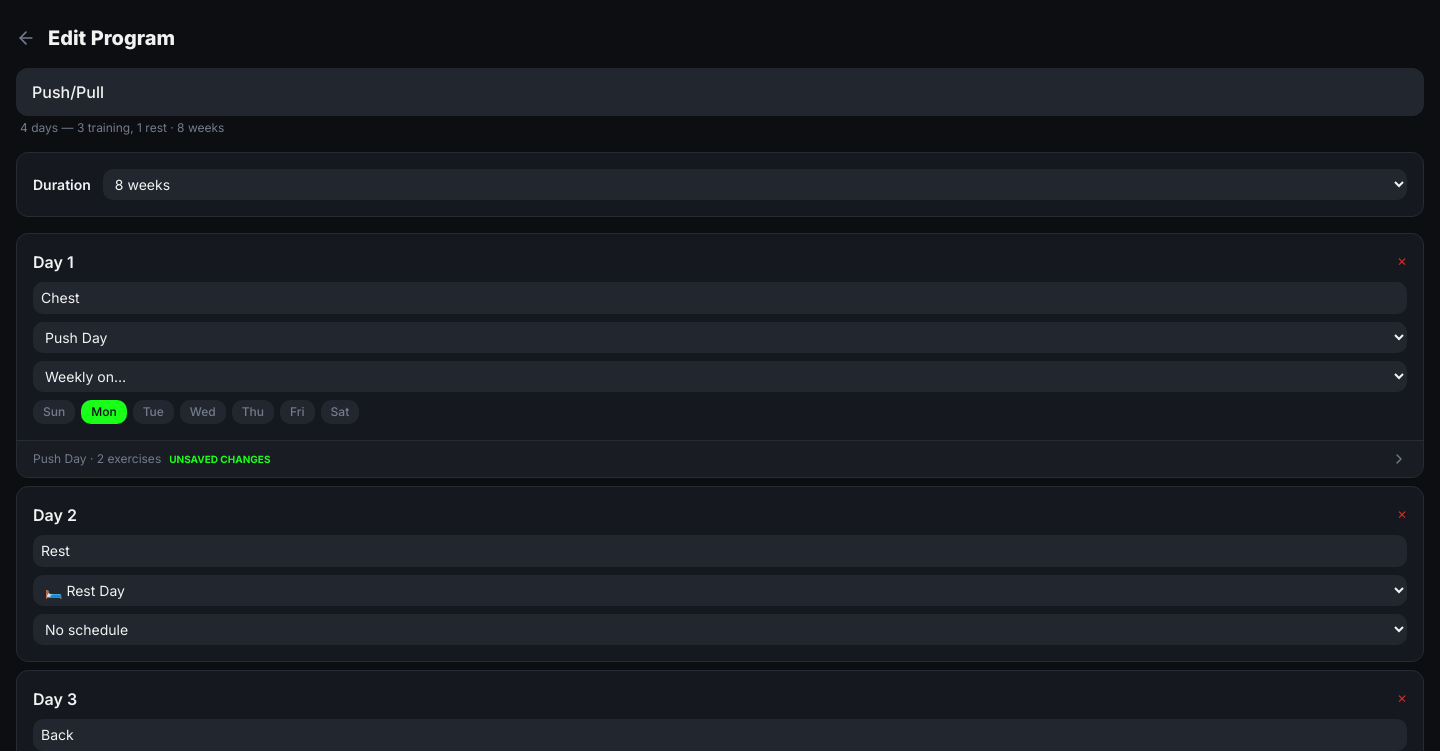
Test: editing a template inside its tile › keeps an unsaved template edit in the draft across a reload
The width and height of the screenshot is (1440, 751).
Earlier steps of the test are not shown.
Check: the text "Unsaved changes" is shown, box [169, 452, 270, 466]
Click the button "Push Day · 2 exercises Unsaved changes".
click(60, 458)  # box [17, 440, 1423, 477]
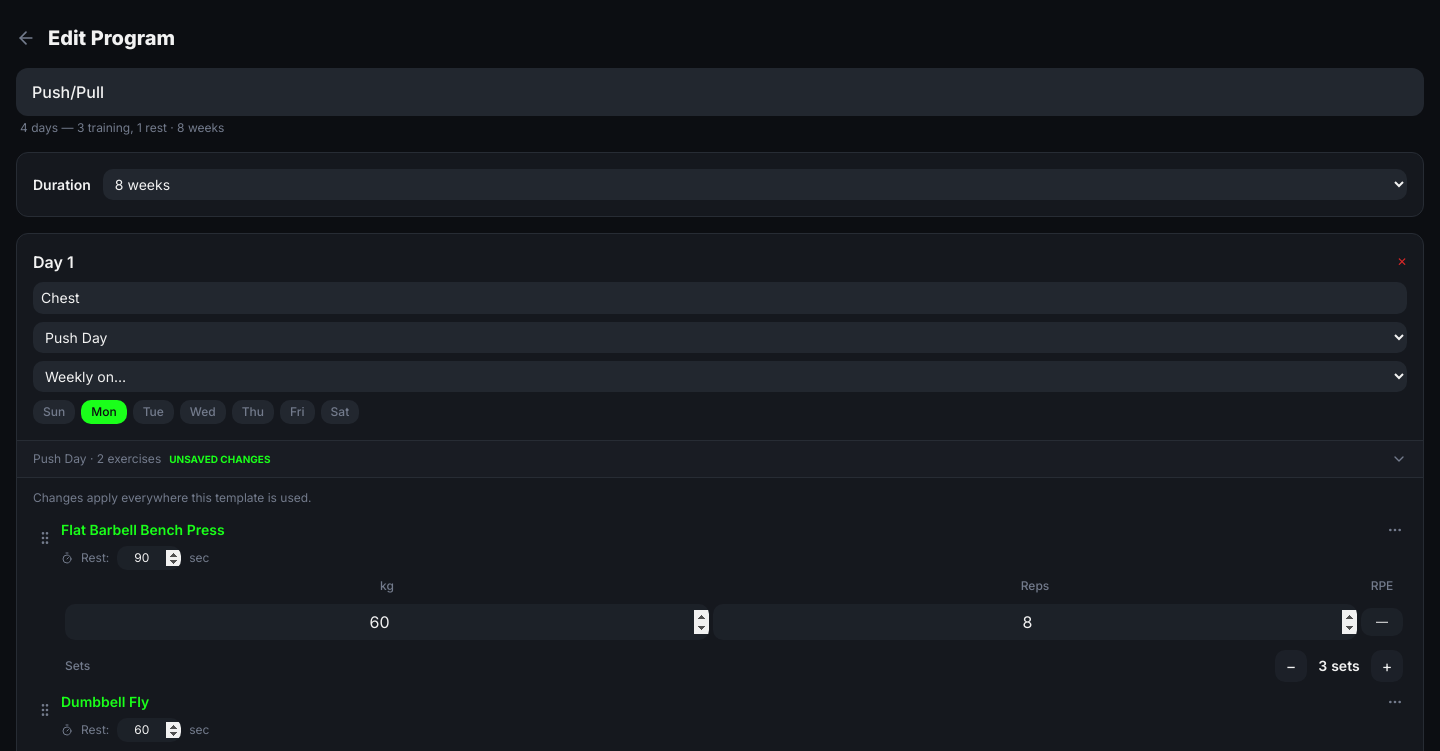
Check: the 3rd number field with placeholder "—" holds "8", box [713, 604, 1357, 640]
